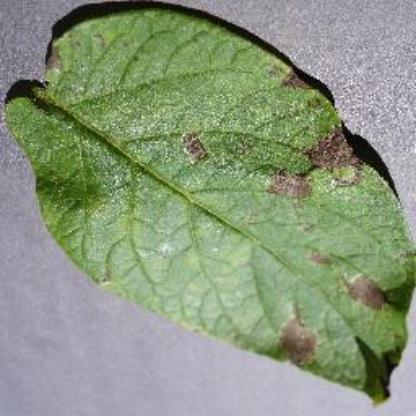Early-Blight: (11, 11, 415, 403)
